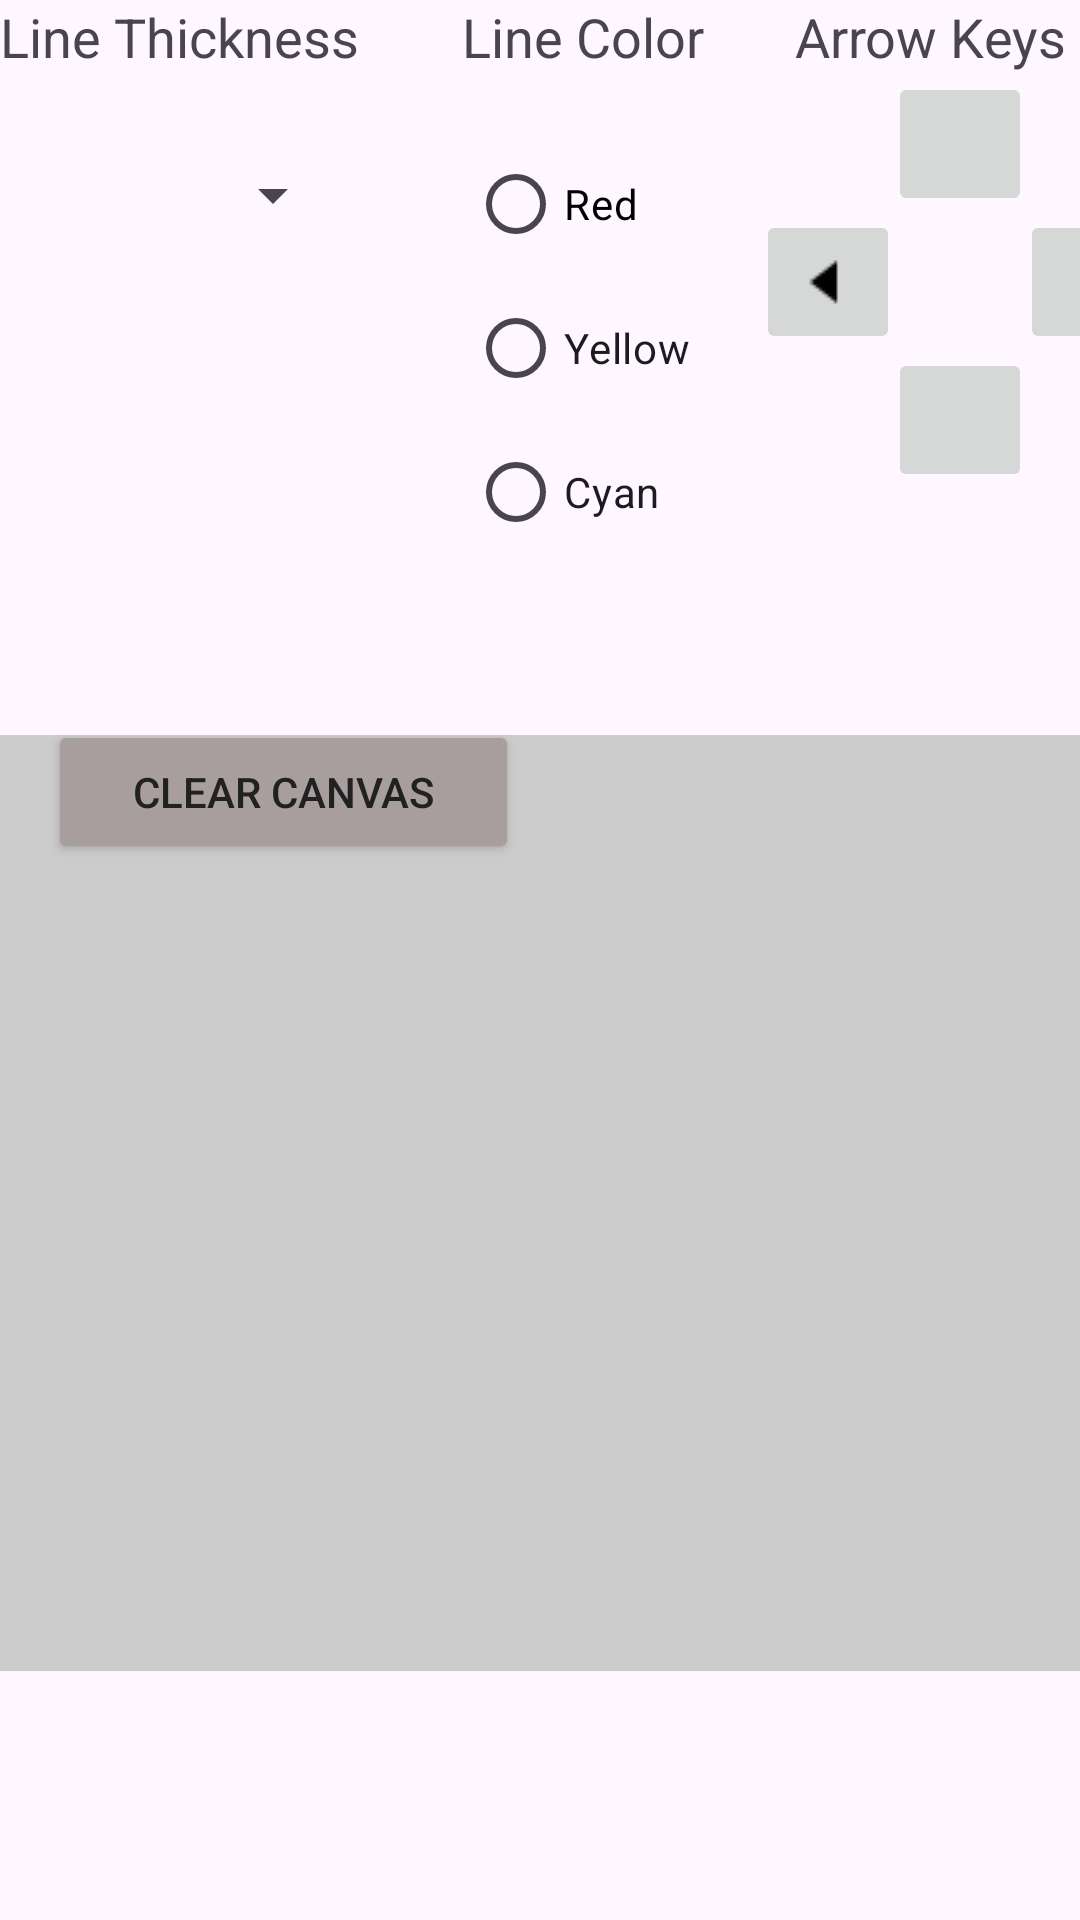

Screen size 1080×1920. Icon name, then its box in pixels as [x1,y1,x2,y2]:
left arrow: [768,228,888,336]
